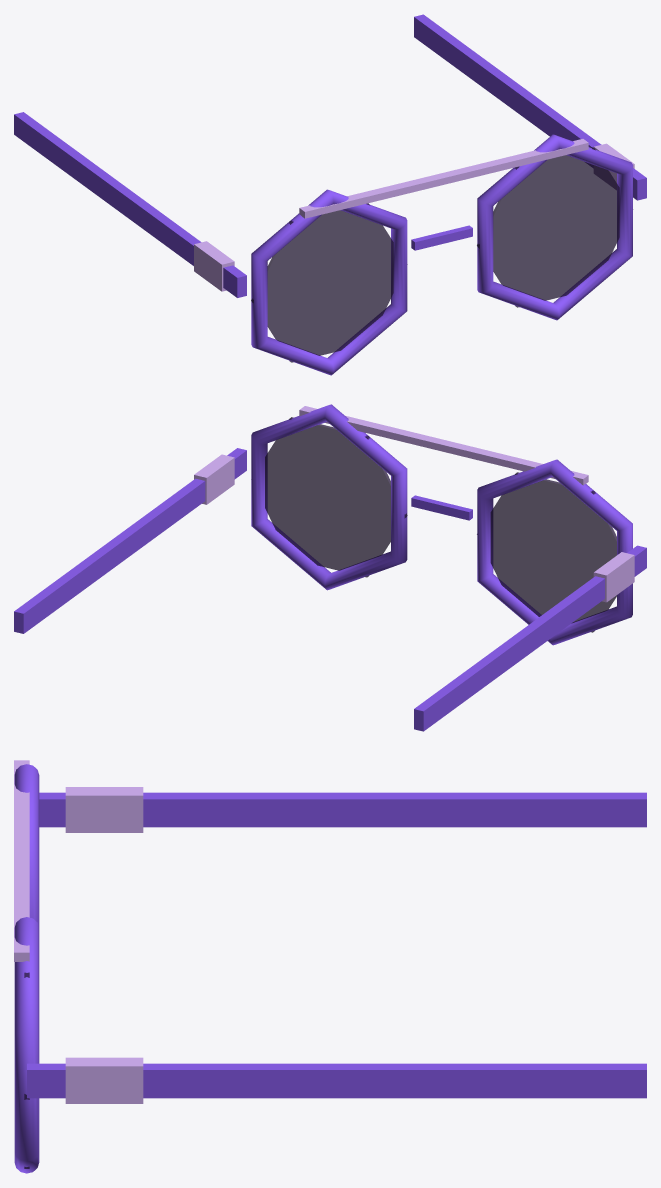
Rendered from glasses-violet.glb.
The picture shows the model from 3 angles, top to bottom: view 1: azimuth 30°, elevation 25°; view 2: azimuth 150°, elevation 25°; view 3: azimuth 270°, elevation 25°; orthographic projection. The views are drawn at different scales.
Visible parts, largest first — view 1: Hex_Lens_Left, Hex_Lens_Right, Hex_Rim_Left, Hex_Rim_Right, Temple_Left, Temple_Right, Top_Bar, Badge_Left, Bridge, Badge_Right; view 2: Hex_Lens_Right, Hex_Lens_Left, Hex_Rim_Right, Hex_Rim_Left, Temple_Right, Temple_Left, Top_Bar, Badge_Left, Badge_Right, Bridge; view 3: Temple_Right, Temple_Left, Hex_Rim_Right, Badge_Right, Badge_Left, Top_Bar, Hex_Rim_Left.
Boxes of the visible parts, left/top/right/bottom form: Hex_Lens_Left: left=251, top=203, right=407, bottom=362; Hex_Lens_Right: left=477, top=147, right=633, bottom=307; Hex_Rim_Left: left=251, top=189, right=407, bottom=375; Hex_Rim_Right: left=477, top=134, right=632, bottom=320; Temple_Left: left=14, top=112, right=246, bottom=297; Temple_Right: left=414, top=14, right=646, bottom=200; Top_Bar: left=299, top=139, right=588, bottom=218; Badge_Left: left=194, top=241, right=234, bottom=291; Bridge: left=411, top=225, right=472, bottom=250; Badge_Right: left=593, top=143, right=634, bottom=189; Hex_Lens_Right: left=265, top=417, right=407, bottom=577; Hex_Lens_Left: left=477, top=472, right=616, bottom=632; Hex_Rim_Right: left=251, top=404, right=407, bottom=590; Hex_Rim_Left: left=477, top=459, right=632, bottom=645; Temple_Right: left=14, top=448, right=246, bottom=633; Temple_Left: left=414, top=545, right=646, bottom=731; Top_Bar: left=299, top=406, right=588, bottom=485; Badge_Left: left=593, top=552, right=634, bottom=602; Badge_Right: left=194, top=454, right=234, bottom=504; Bridge: left=411, top=495, right=472, bottom=520; Temple_Right: left=27, top=1063, right=646, bottom=1098; Temple_Left: left=39, top=792, right=646, bottom=827; Hex_Rim_Right: left=14, top=917, right=39, bottom=1173; Badge_Right: left=65, top=1057, right=143, bottom=1103; Badge_Left: left=65, top=787, right=143, bottom=832; Top_Bar: left=14, top=760, right=29, bottom=961; Hex_Rim_Left: left=14, top=764, right=39, bottom=927.
Bounding box in the file's own units: 0.128 × 0.0548 × 0.1225.
